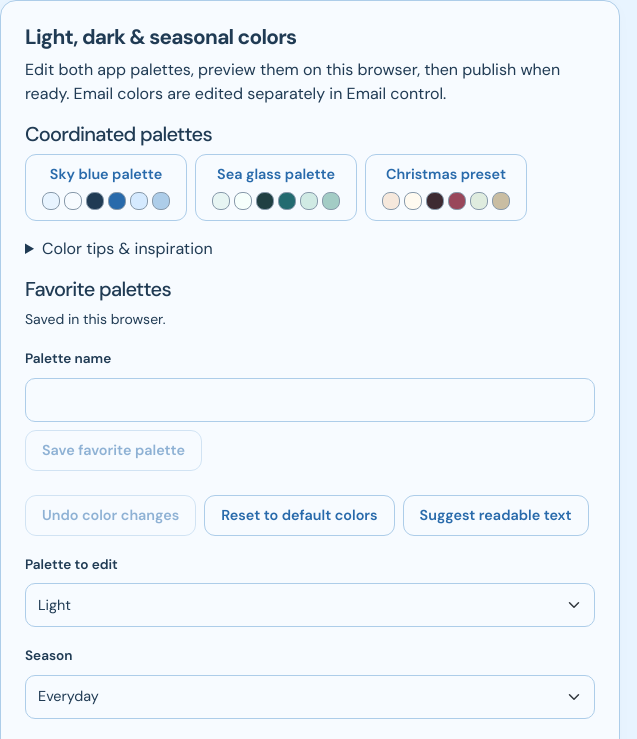
it: provides a Christmas palette without publishing it automatically
This screenshot has width=637, height=739.
Click the button "Christmas preset": (446, 188) top-left (365, 154), bottom-right (527, 221)
(page scrolled)
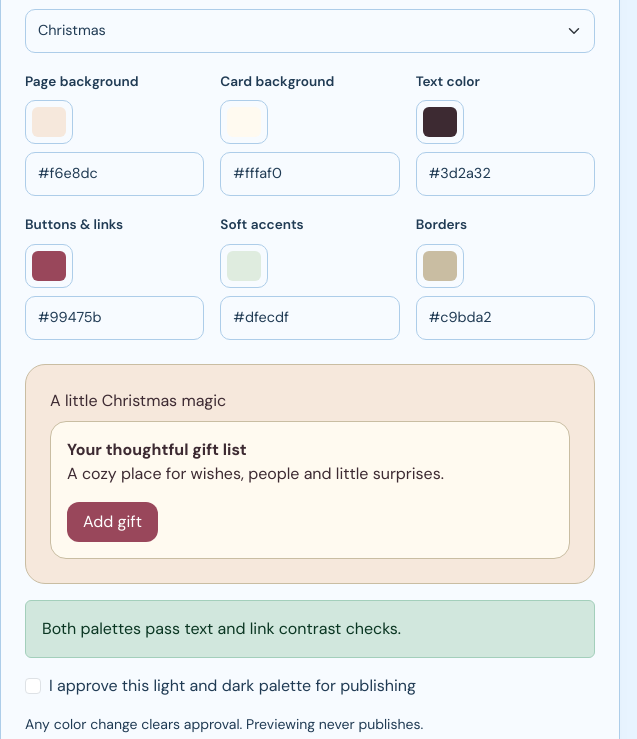
Now the dropdown labelled "Season" shows "Christmas", box top-left (25, 9), bottom-right (595, 53)
Now the text "A little Christmas magic" is shown, box top-left (50, 390), bottom-right (226, 411)
